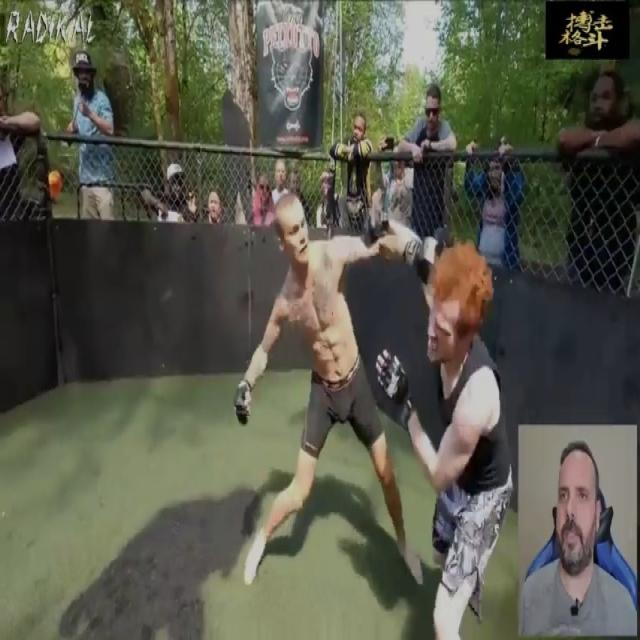fight: (219, 193, 525, 638)
